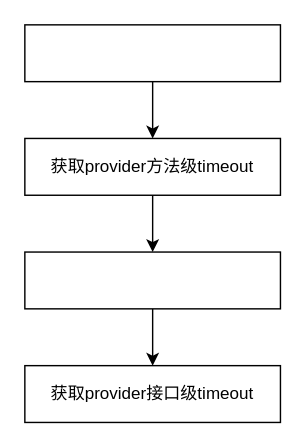
Some shapes in this 305 by 447 pixel diagram are drawn without their labels. The centre of each missing label's shape, as x and y in pixels:
"获取consumer接口级timeout" belongs at (x=151, y=280).
"获取consumer方法级timeout" belongs at (x=151, y=52).
